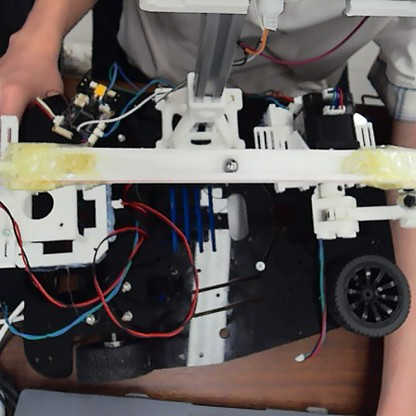ironball: (222, 157, 237, 173)
